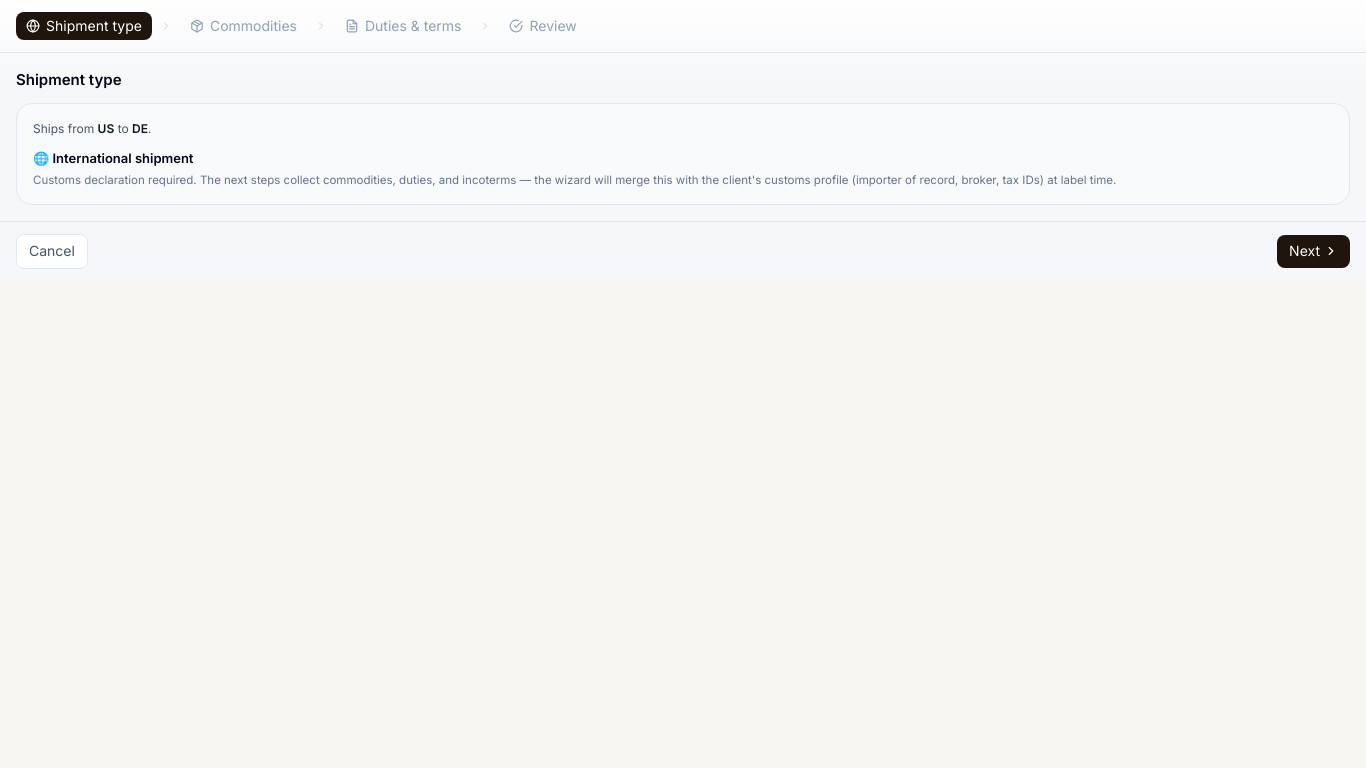
CustomsWizard — US Export EEI section › renders EEI inputs on US→DE
This screenshot has width=1366, height=768.
Click the button "Next" at {"x": 1314, "y": 251}, box [1277,235,1350,268]
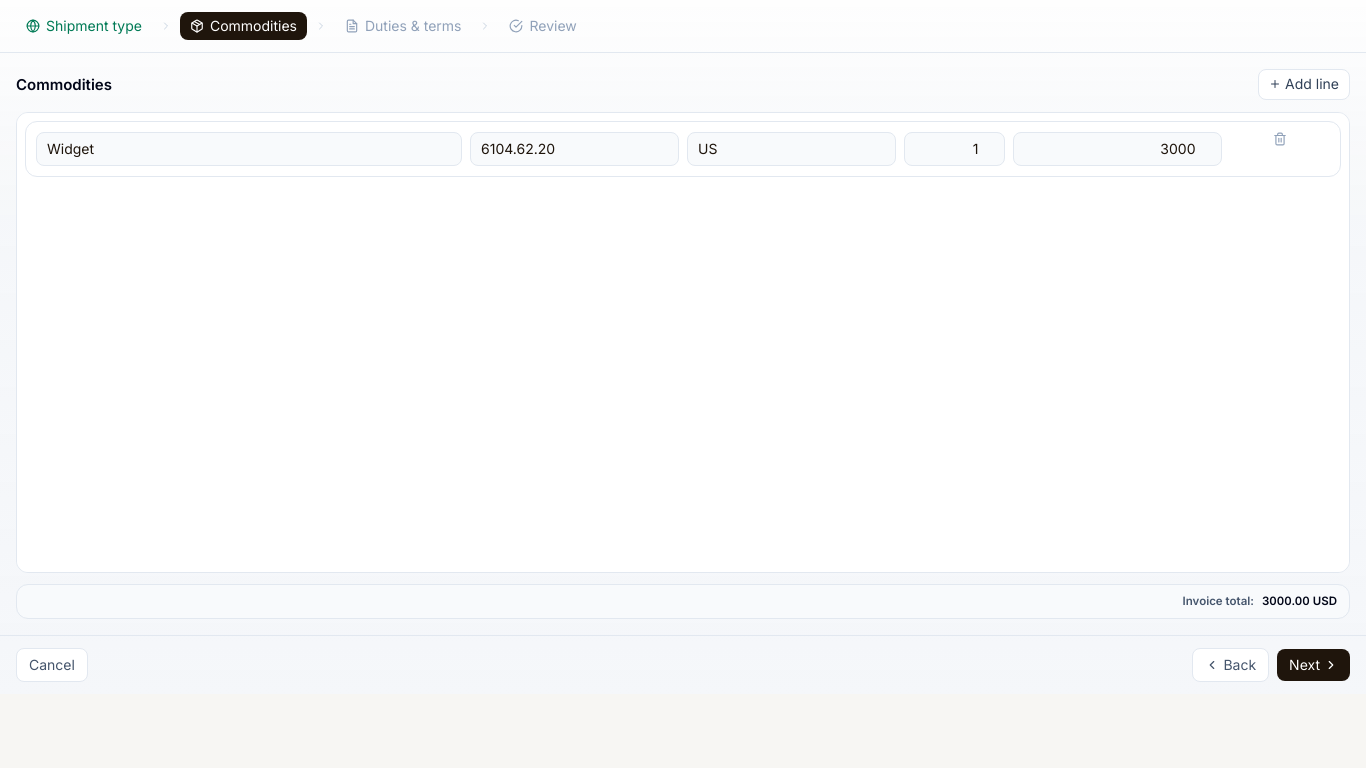
Click the button "Next" at {"x": 1314, "y": 665}, box [1277,649,1350,681]
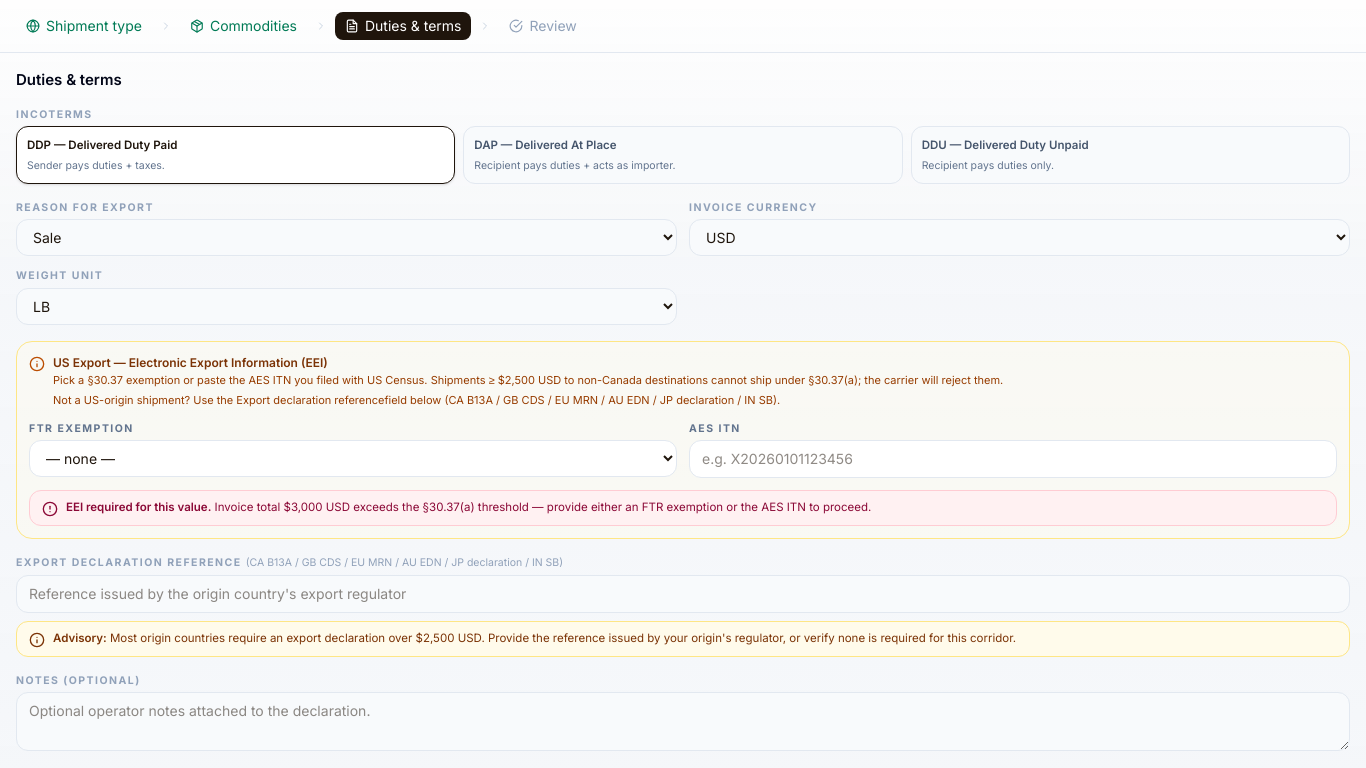
expect the text "US Export — Electronic Export Information (EEI)" is shown: met, box [53,355,328,370]
expect the field with placeholder "e.g. X20260101123456" is shown: met, box [689,440,1337,478]
